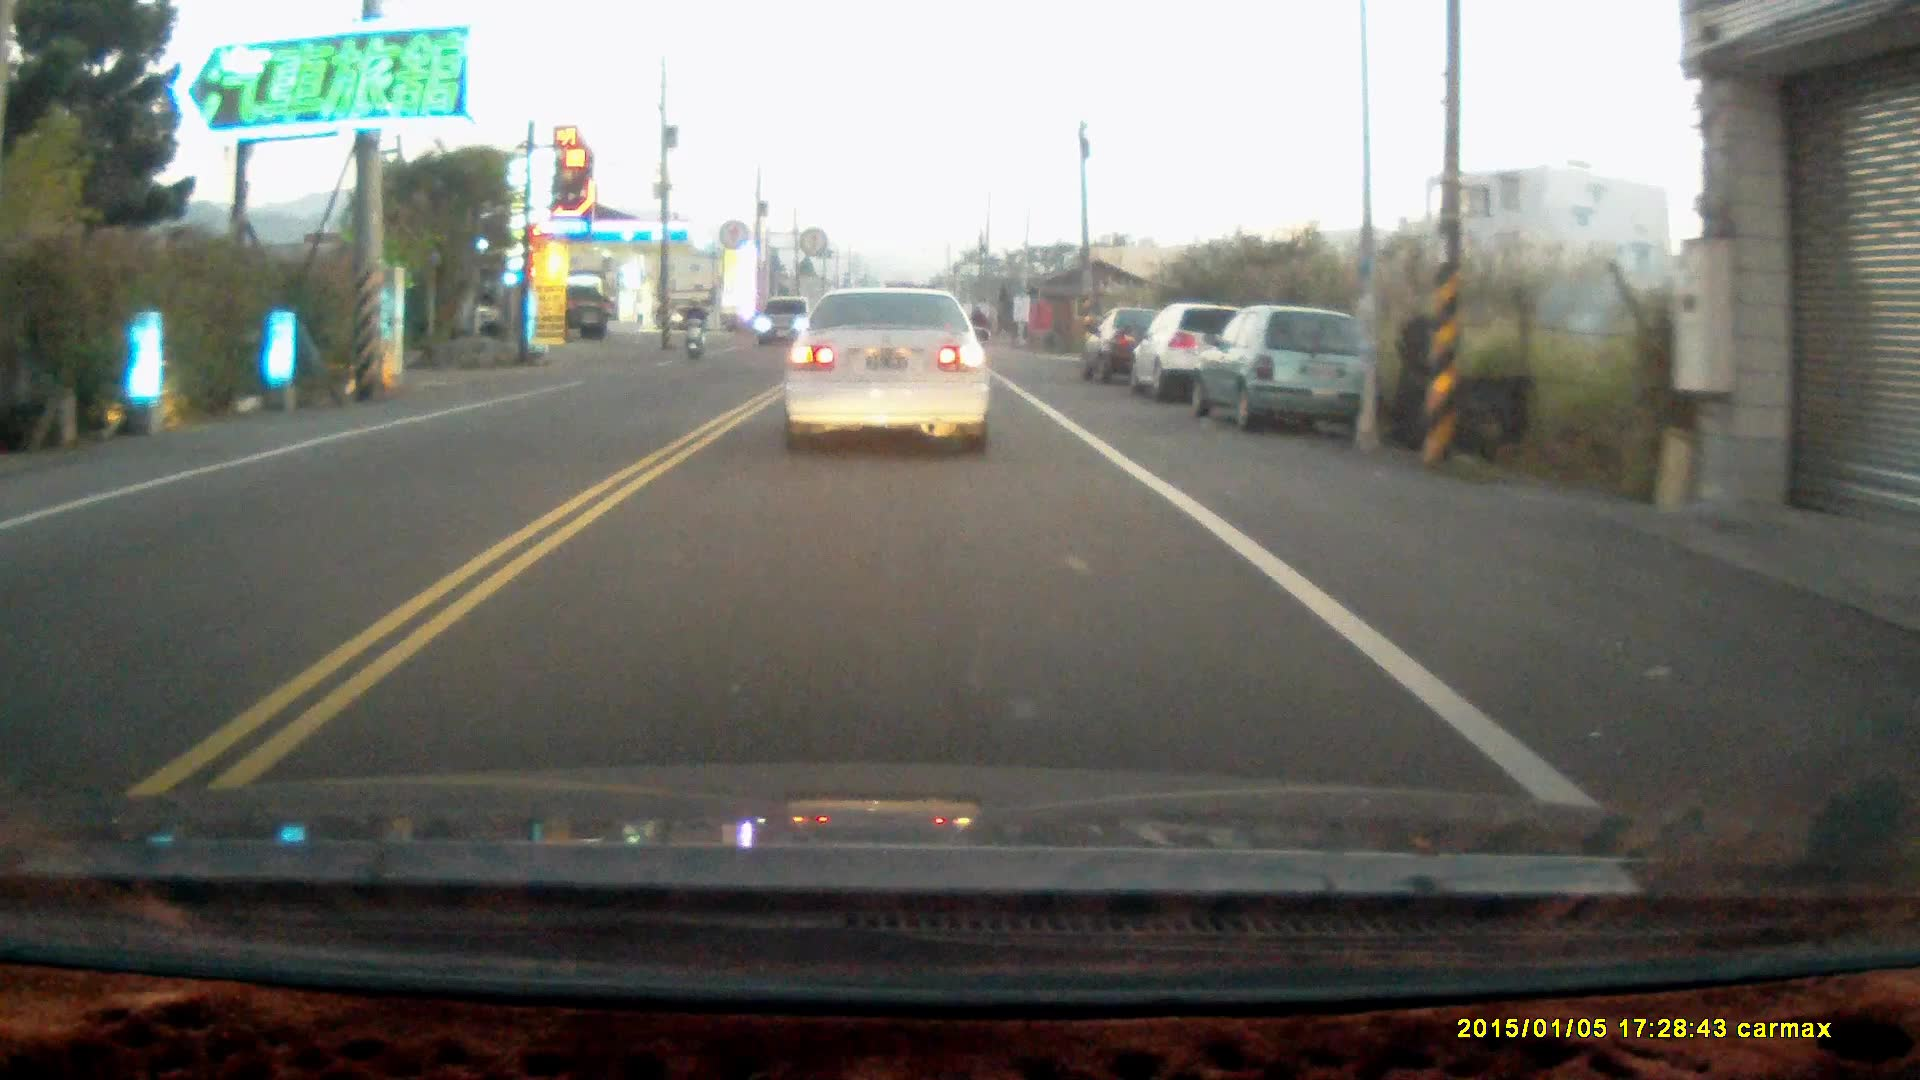rider: (680, 297, 707, 362)
vehicle: (784, 284, 995, 455), (1185, 306, 1380, 435), (1136, 304, 1263, 408), (1087, 307, 1184, 380), (757, 297, 822, 350)
